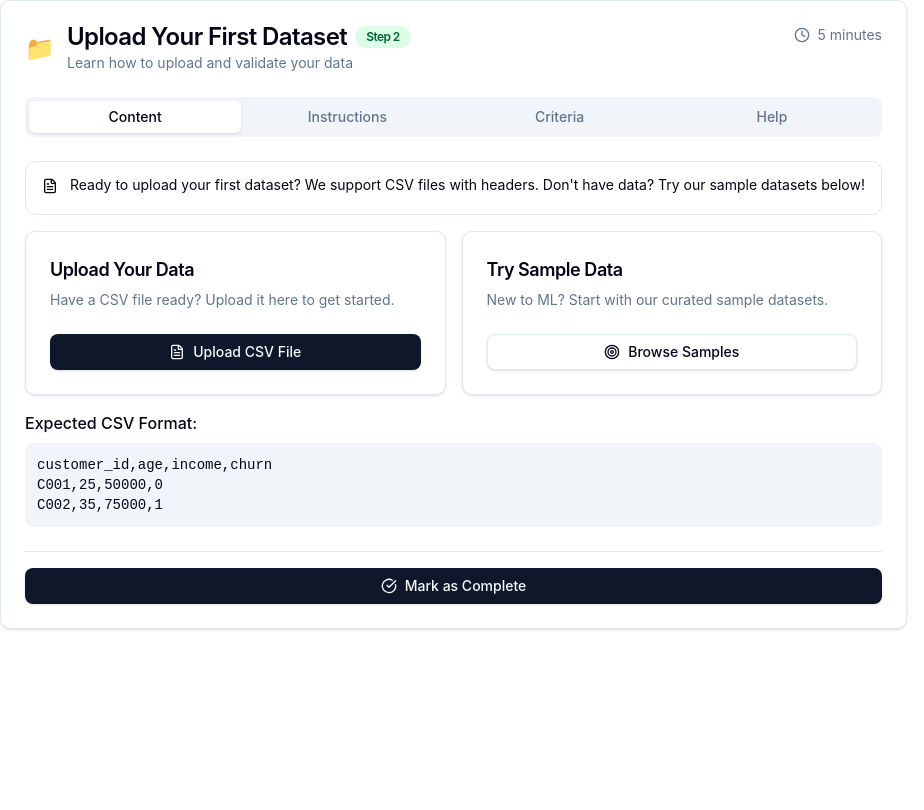
Test: OnboardingStep › surfaces an error (no silent dead-end) when a sample fails to load (#281)
The image size is (924, 810).
Click the button "Browse Samples" at x=672, y=352, box 486,334 -> 857,370
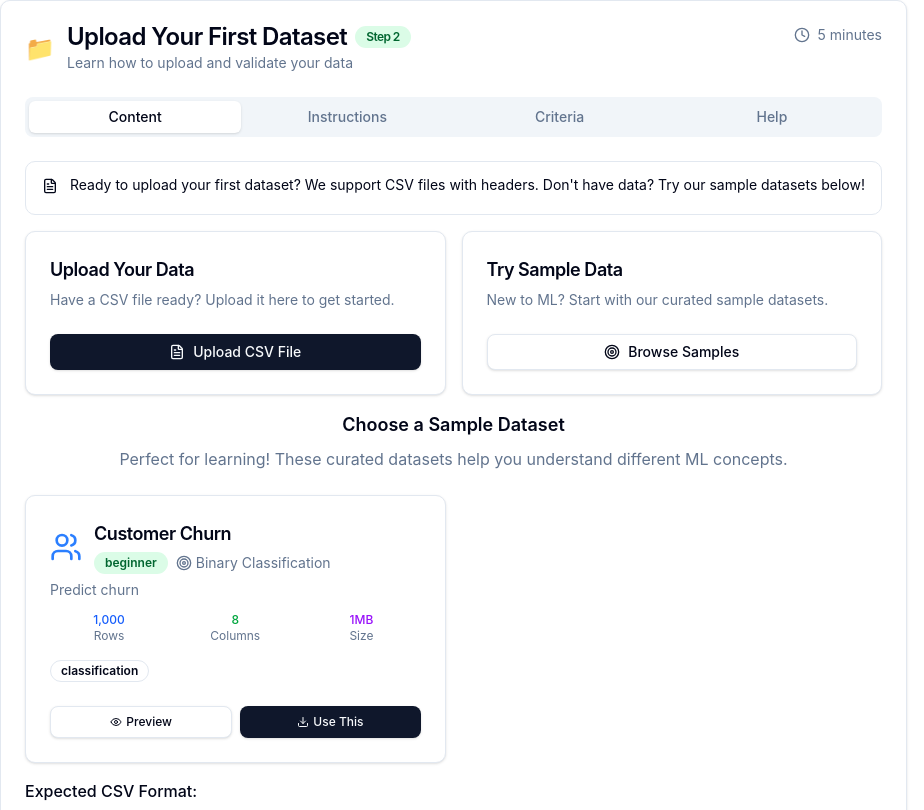
Click the button "Use This" at x=330, y=722, box 240,706 -> 421,738
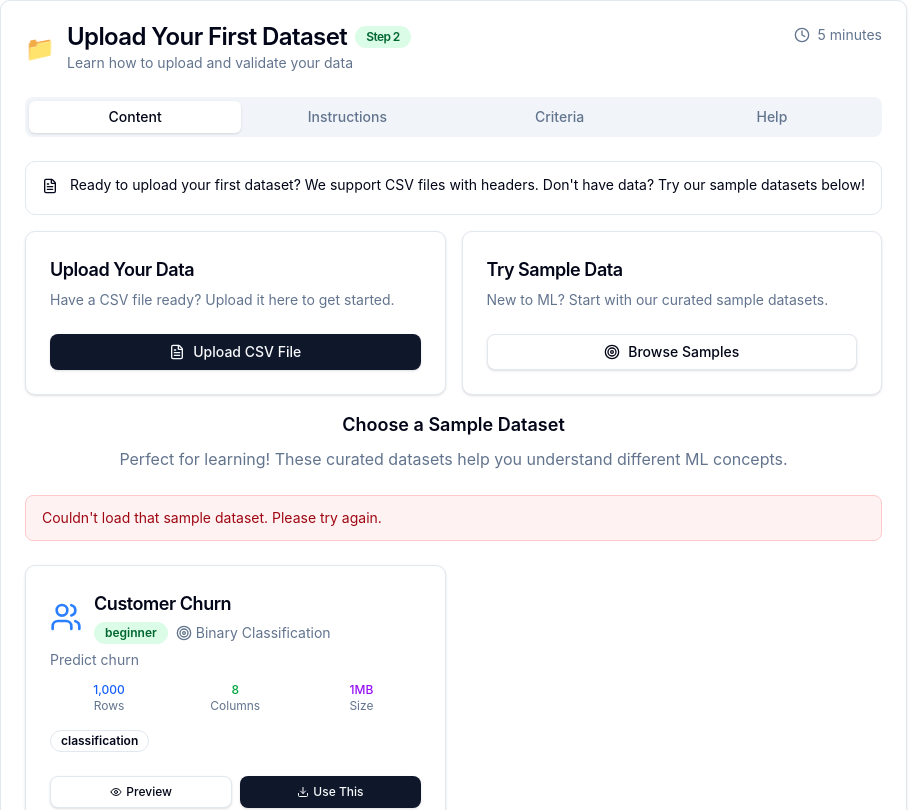
Now the text "Couldn't load that sample dataset. Please try again." is shown, box 25,495 -> 882,541
